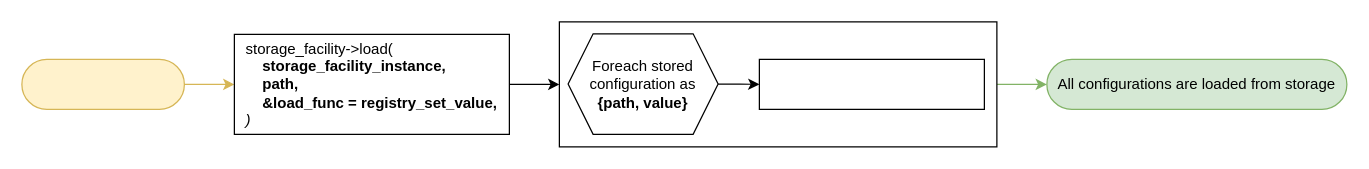
This 1369x169 diagram has some shape labels left out. Here are the shapes that lost their labels. From the top down, the centre of each, then its label:
point (102, 83): registry_load( path )
point (871, 83): registry_set_value( path , value )
